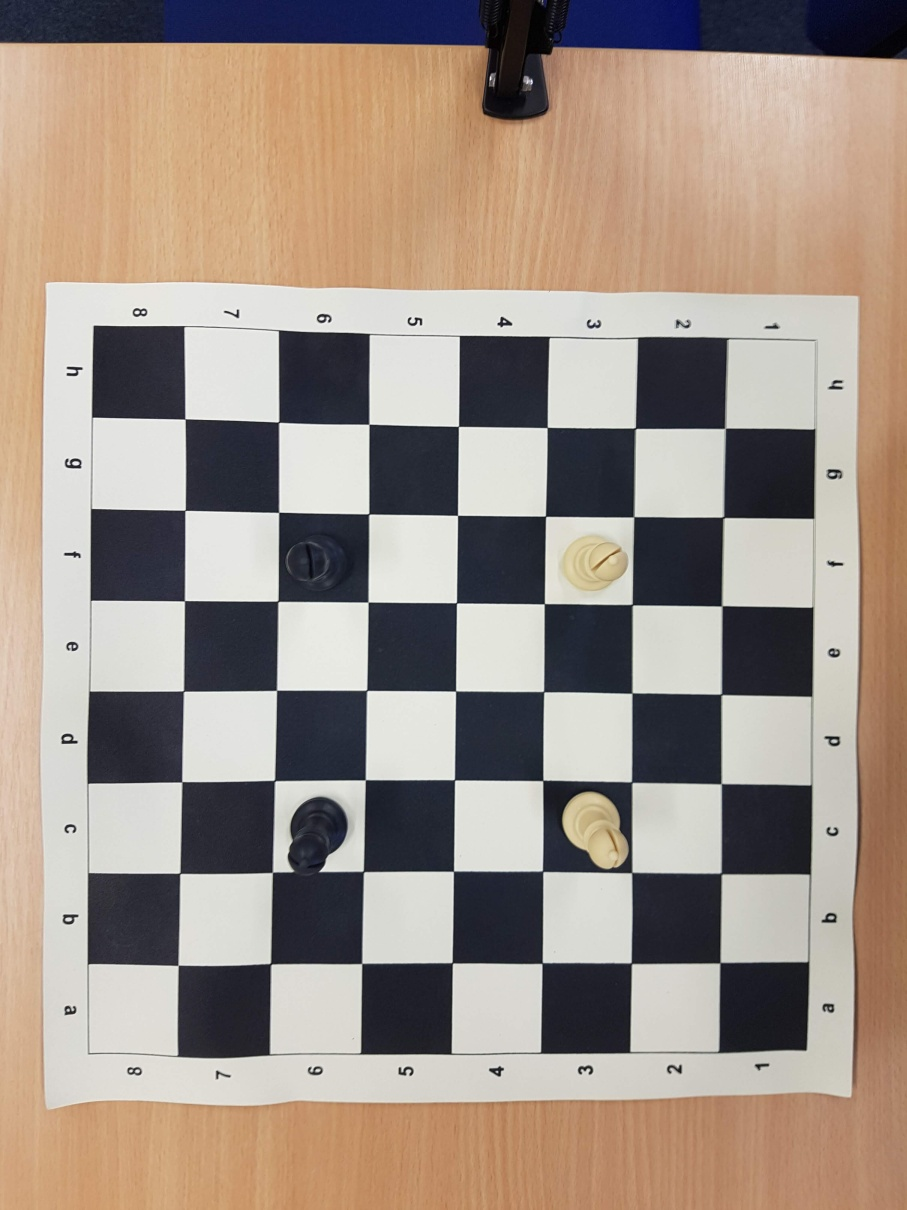chess_bishop: (564, 794, 630, 871), (288, 800, 348, 873), (560, 533, 628, 595), (285, 536, 347, 592)
